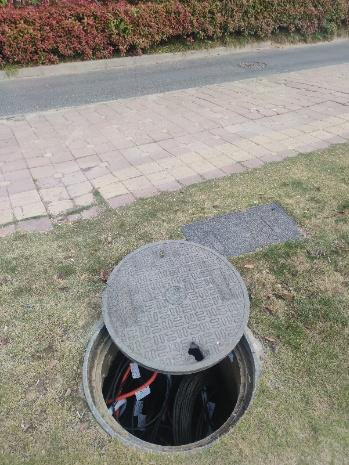wellcover: (89, 238, 262, 446), (170, 203, 317, 269)
